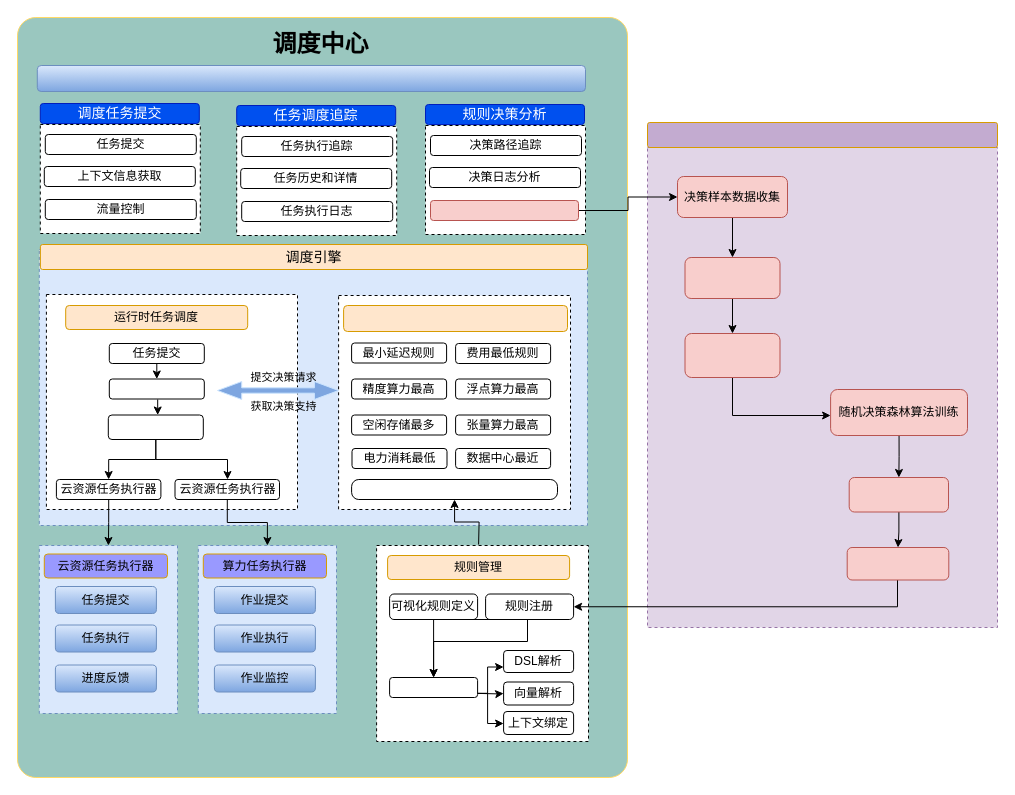
This 1015x795 diagram has some shape labels left out. The box of each missing label's shape, as (x1, y1, x2, y2) in pixels:
AI 智能分析平台: (646, 122, 998, 148)
API 网关: (36, 64, 586, 92)
任务执行调度: (107, 414, 203, 440)
决策结果评估: (430, 200, 578, 220)
更多规则: (351, 478, 558, 500)
样本数据清理: (684, 256, 780, 298)
生成规则模型: (846, 546, 949, 580)
离线训练: (848, 476, 948, 512)
算法特征配置: (684, 332, 780, 378)
规则决策: (108, 378, 204, 399)
规则引擎决策树: (343, 304, 568, 332)
规则解析: (389, 676, 478, 698)
